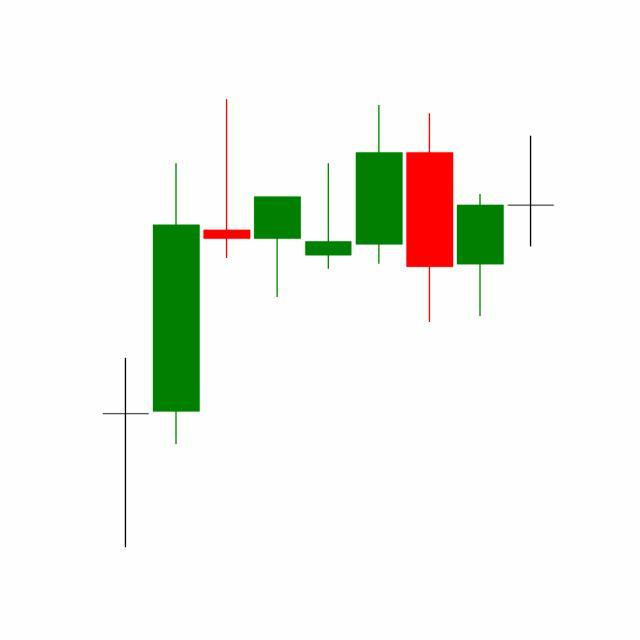Hikkake Pattern: (302, 103, 555, 325)
